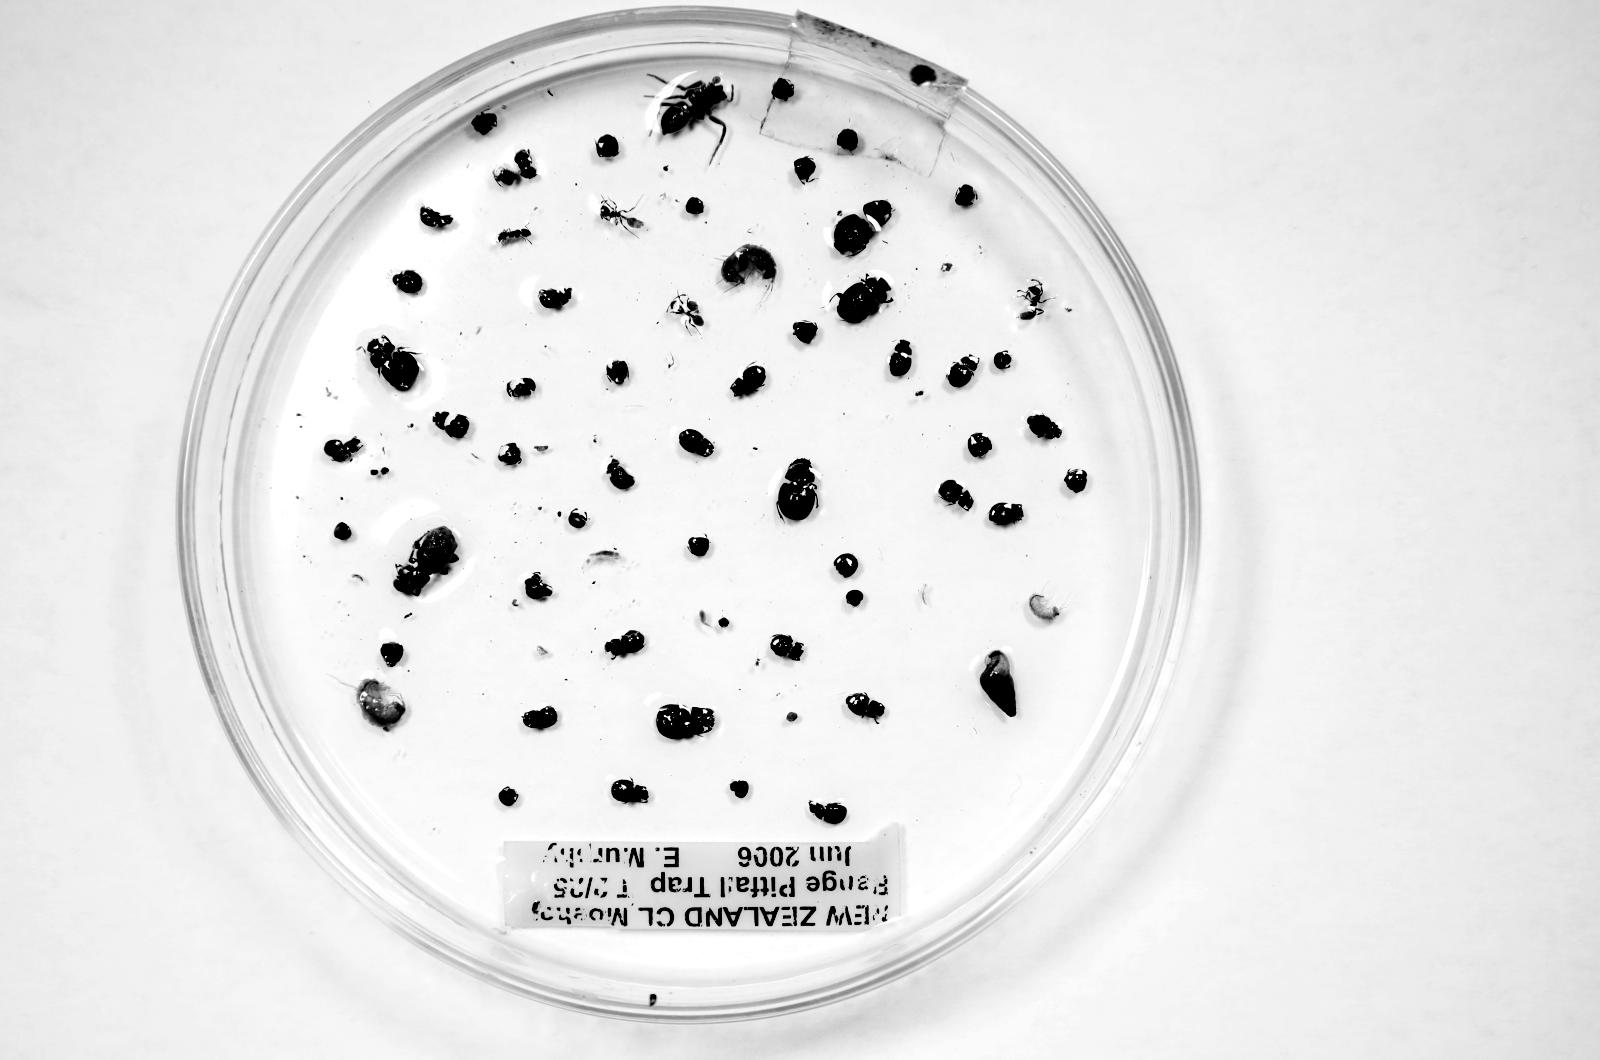amphipoda: (356, 678, 406, 729), (721, 244, 777, 286), (1028, 593, 1062, 622)
araneae: (654, 72, 734, 159)
coleoptera: (394, 526, 459, 595), (365, 336, 420, 390), (835, 276, 892, 323), (777, 458, 817, 521), (656, 704, 715, 739), (731, 363, 765, 396), (604, 629, 646, 657), (938, 480, 973, 511), (947, 355, 979, 388), (846, 693, 885, 719), (679, 428, 714, 457), (1025, 413, 1062, 440), (610, 778, 649, 803), (607, 458, 635, 490), (770, 634, 803, 661), (888, 340, 912, 377), (809, 801, 847, 825), (522, 706, 558, 729), (989, 503, 1024, 525), (419, 206, 453, 228), (537, 287, 572, 309)
formicidae: (600, 198, 644, 228), (1017, 279, 1047, 321), (498, 228, 531, 246)
gastropoda: (979, 649, 1016, 717)
